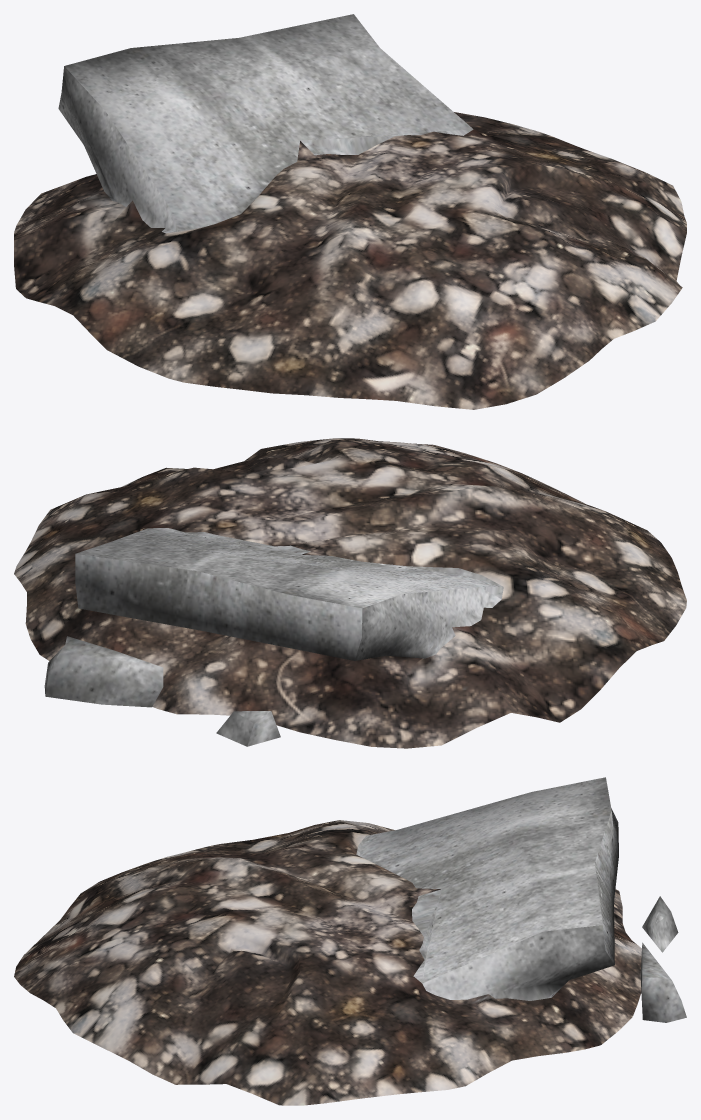
The model's file is prop_ruined_oven.glb.
The picture shows the model from 3 angles, top to bottom: view 1: azimuth 30°, elevation 25°; view 2: azimuth 150°, elevation 25°; view 3: azimuth 270°, elevation 25°; orthographic projection. The views are drawn at different scales.
Parts seen in each view (by area): view 1: prop_ruined_oven_mesh; view 2: prop_ruined_oven_mesh; view 3: prop_ruined_oven_mesh.
Boxes of the visible parts, x1,y1,x2,y2 form: prop_ruined_oven_mesh: (14,14,686,409); prop_ruined_oven_mesh: (14,438,686,748); prop_ruined_oven_mesh: (14,777,686,1105).
Size of the model in its own units: 2.84 by 0.6469 by 2.98.
1 material, 1 textured.
